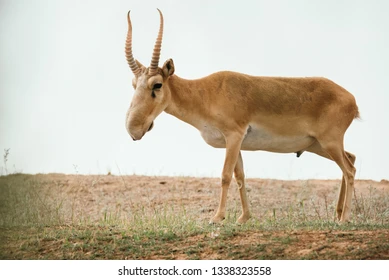saiga: (123, 8, 365, 228)
